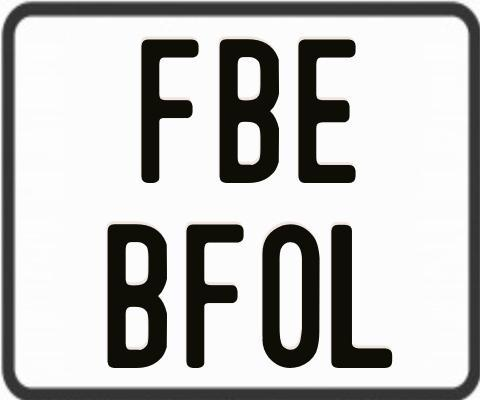0: (261, 221, 321, 368)
B: (108, 224, 173, 374), (220, 39, 283, 189)
E: (295, 39, 354, 186)
F: (186, 223, 248, 370), (138, 39, 197, 184)
L: (330, 225, 397, 373)
